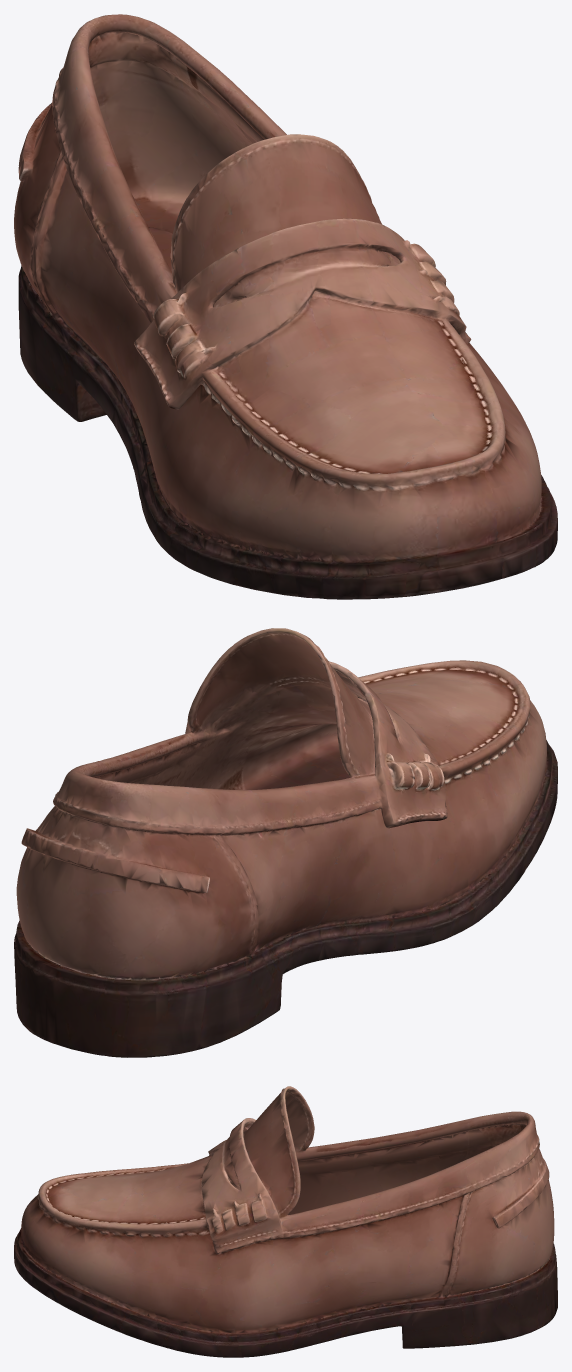
Rendered from shoe_web.glb.
3 views of the same model, one above another, from view 1: azimuth 30°, elevation 25°; view 2: azimuth 150°, elevation 25°; view 3: azimuth 270°, elevation 25° (orthographic). The views are drawn at different scales.
Parts seen in each view (by area): view 1: Mesh_0; view 2: Mesh_0; view 3: Mesh_0.
Boxes of the visible parts, x1,y1,x2,y2 form: Mesh_0: (14, 14, 557, 599); Mesh_0: (14, 628, 557, 1057); Mesh_0: (14, 1086, 557, 1357).
Bounding box in the file's own units: 0.5136 × 0.4823 × 1.12.
1 material, 1 textured.
